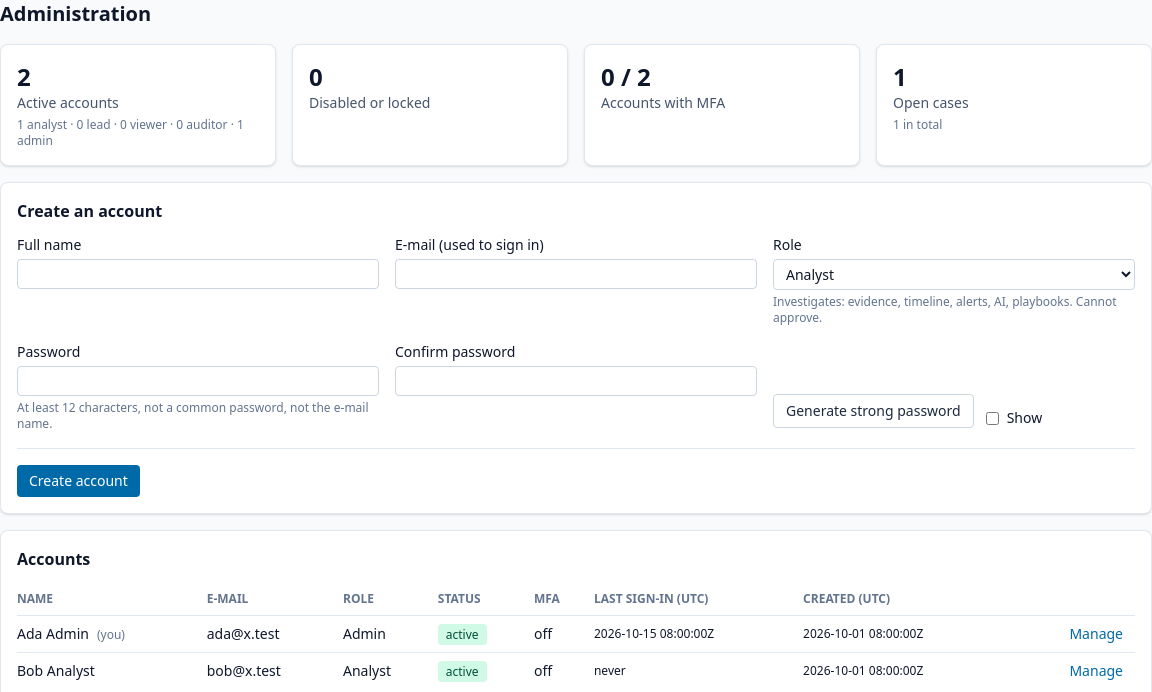
Test case: admin page › lists accounts and creates an analyst without asking for the admin password
Expected: the text "Bob Analyst" is shown, [17,652,207,689]
Expected: the text "never" is shown, [594,652,803,689]
Type "Cara" into the field labelled "Full name" at point(198, 274), box [17,259,379,289]
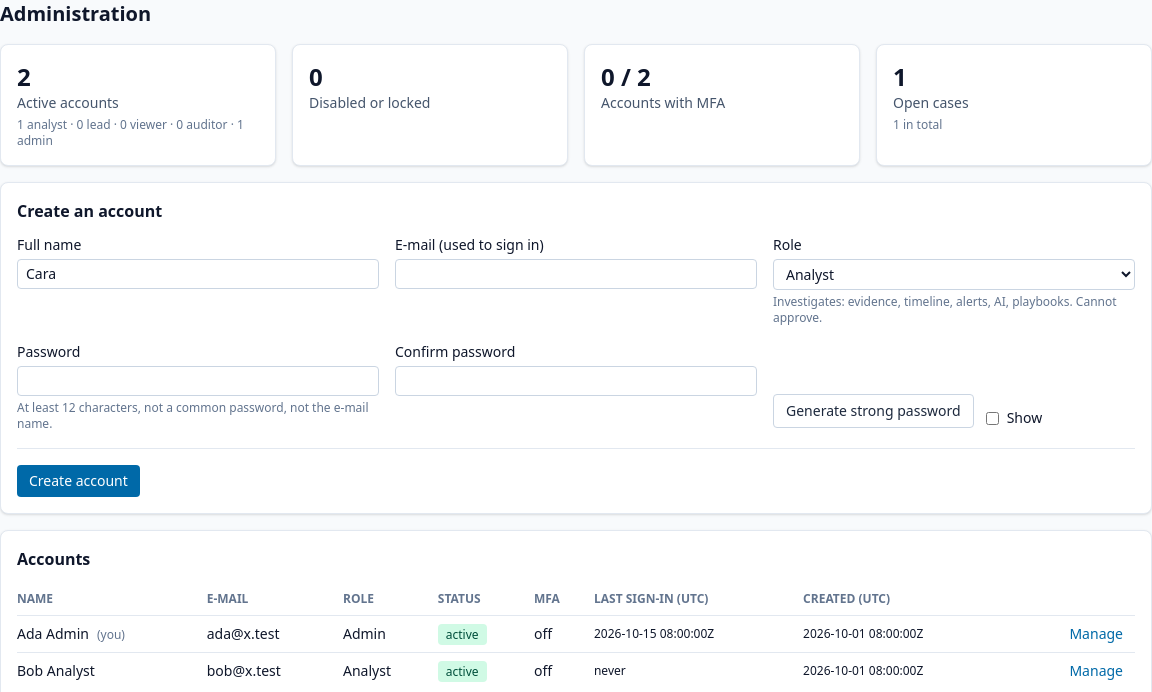
Type "cara@x.test" into the field labelled "E-mail (used to sign in)" at point(576, 274), box [395,259,757,289]
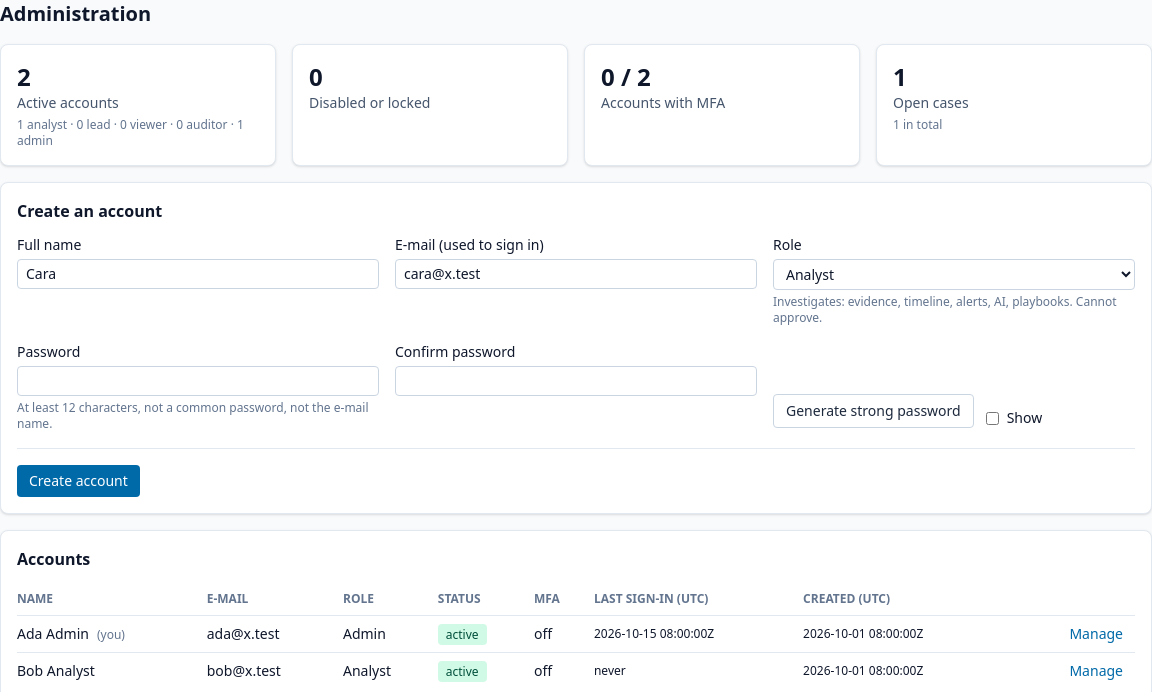
Click the button "Generate strong password" at point(873, 411), box [773,394,974,428]
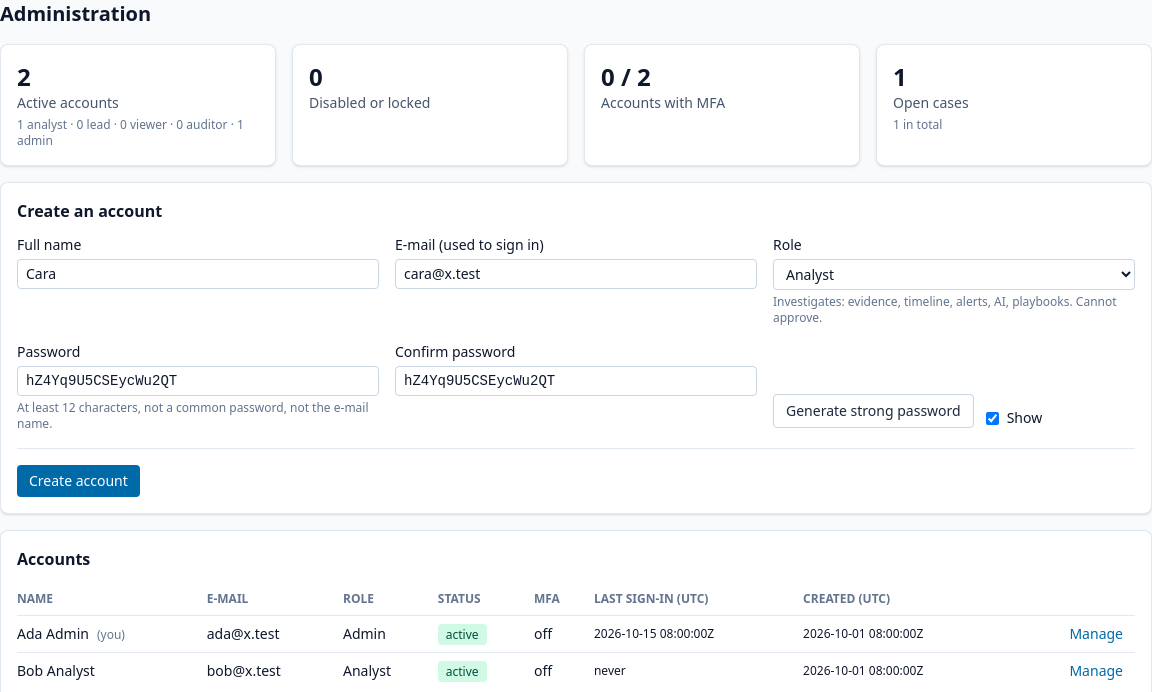
Click the button "Create account" at point(78, 481), box [17,465,140,497]
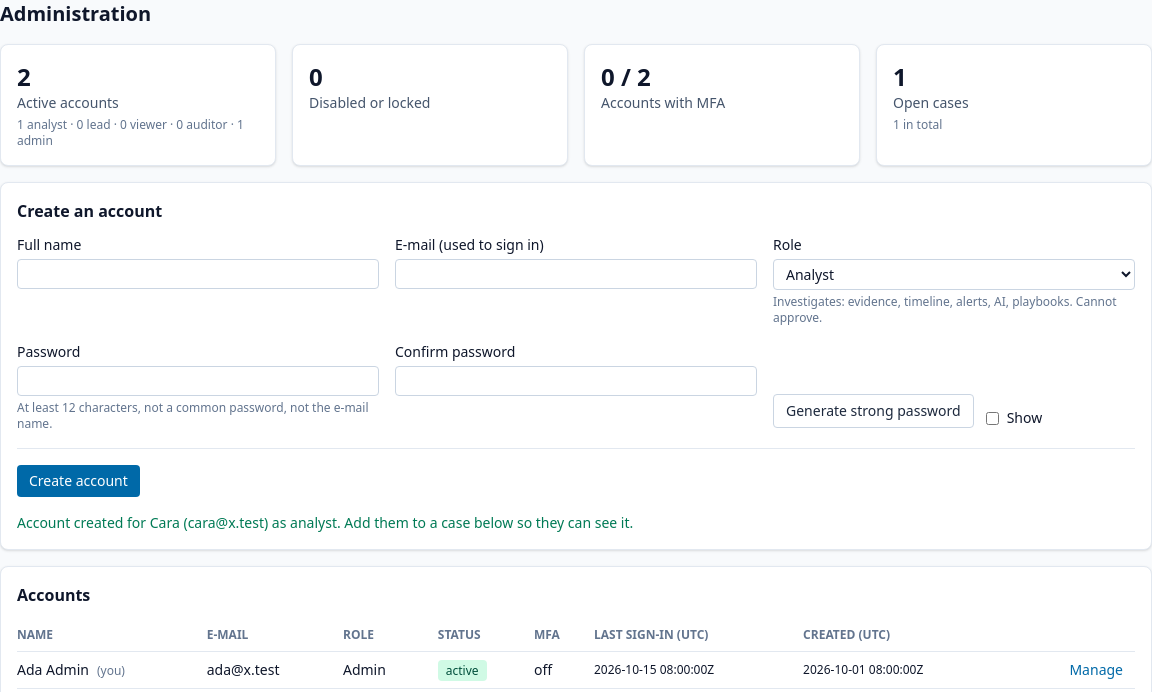
Now the text "Account created for Cara" is shown, box [17,513,633,532]
Now the password field labelled "Password" is empty, box [17,366,379,396]
